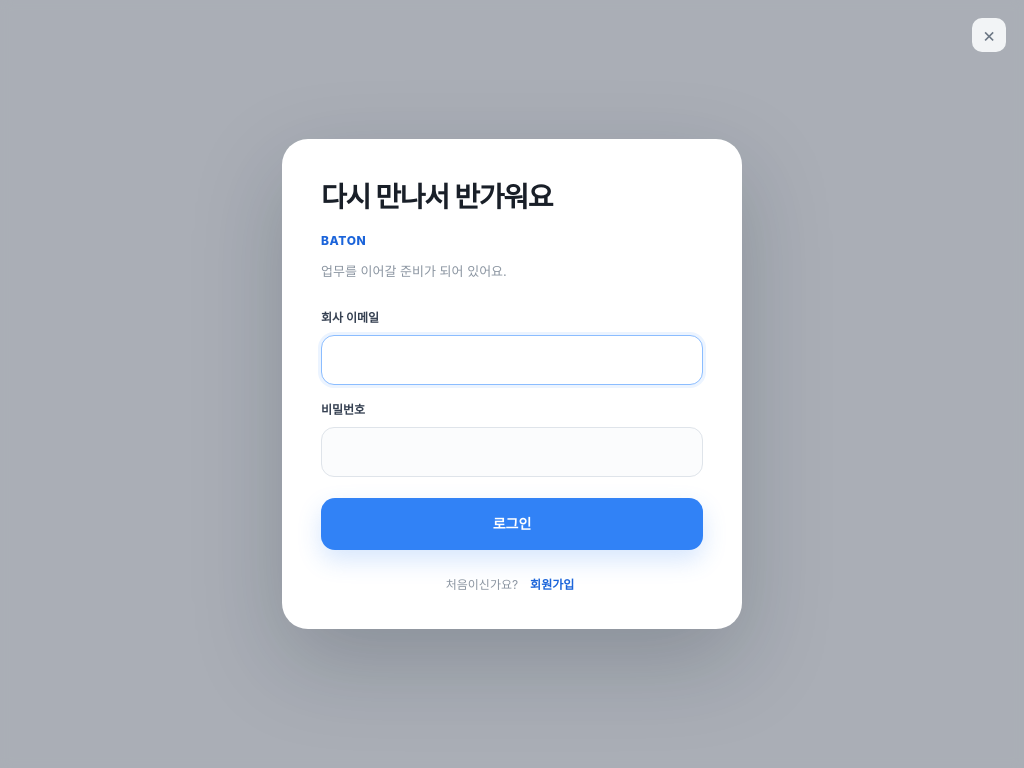
it: AuthModal › keeps the modal open, clears the password, and explains rejected credentials
In the field labelled "회사 이메일": (512, 360) [321,335,703,385], type "wrong@example.com"
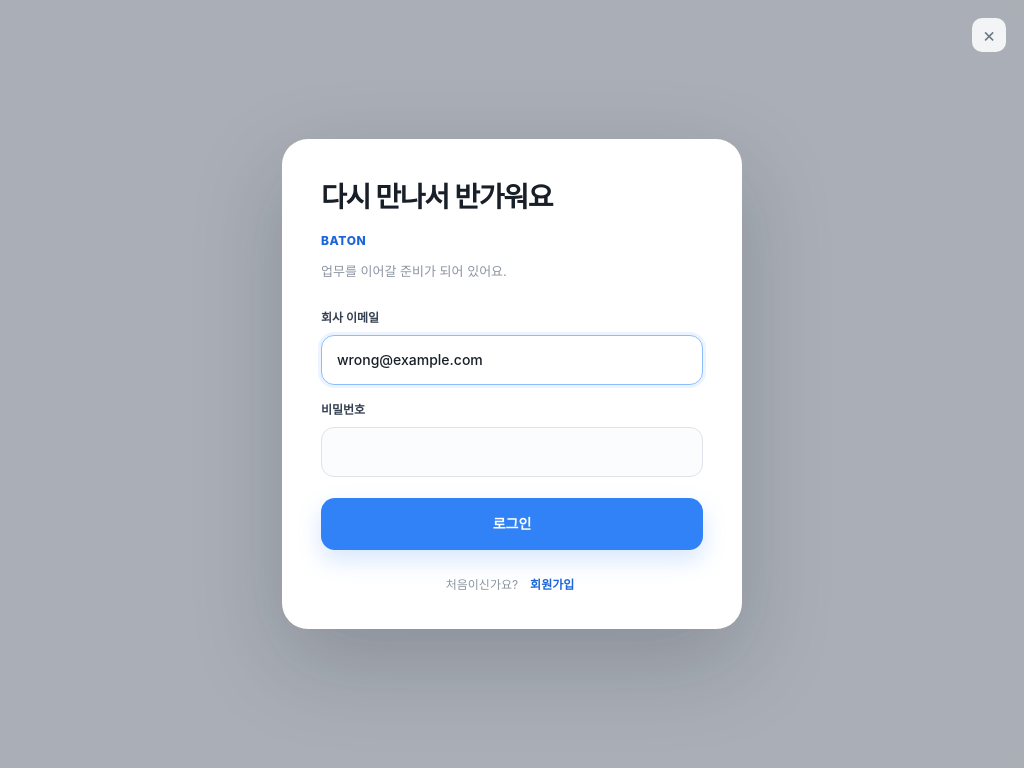
In the password field labelled "비밀번호": (512, 452) [321,427,703,477], type "wrong"
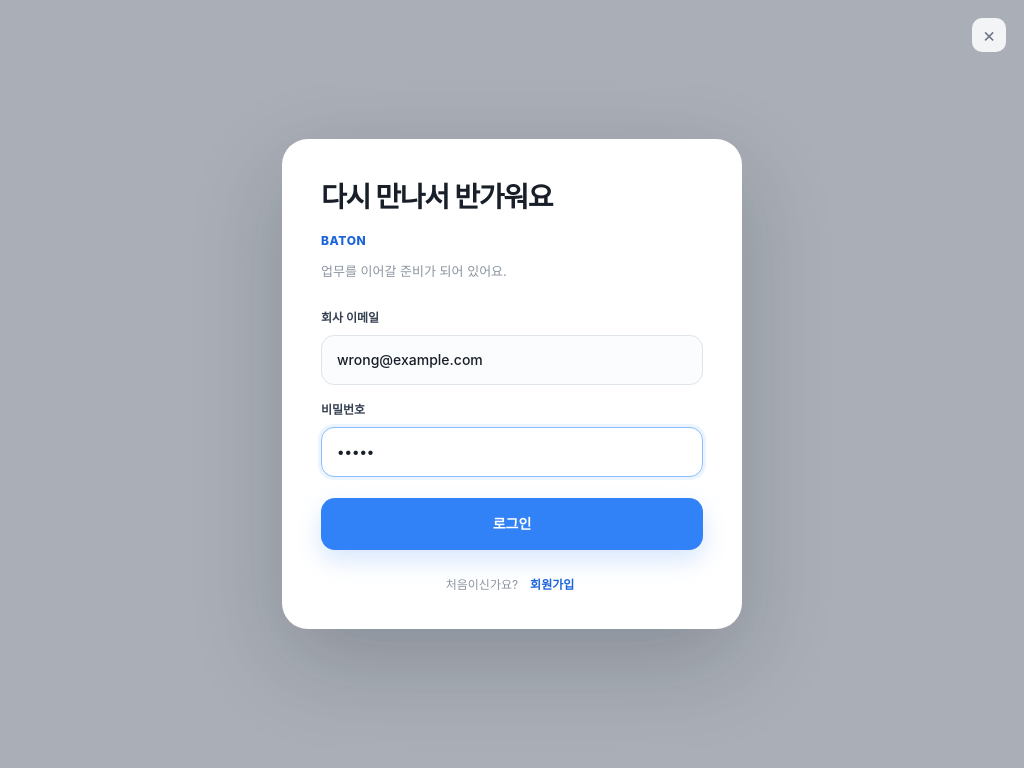
Click the button "로그인": (512, 524) [321,498,703,550]
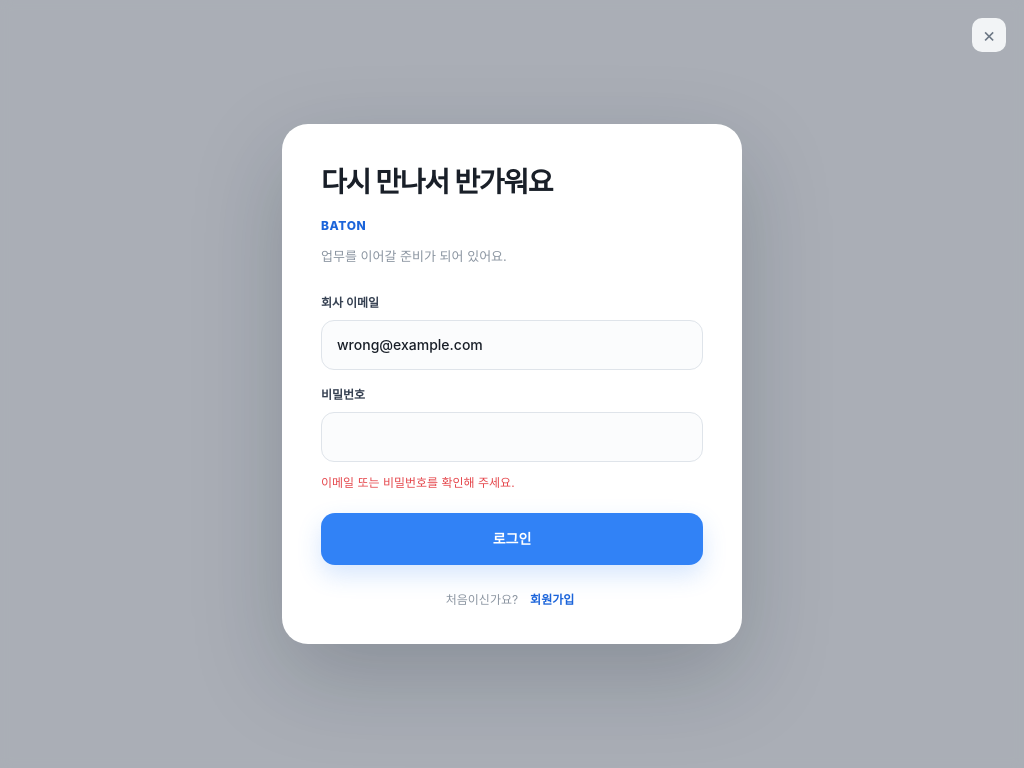
Result: the message reads "이메일 또는 비밀번호를 확인해 주세요." at [321,475,515,490]
Result: the password field labelled "비밀번호" is empty at [321,412,703,462]
